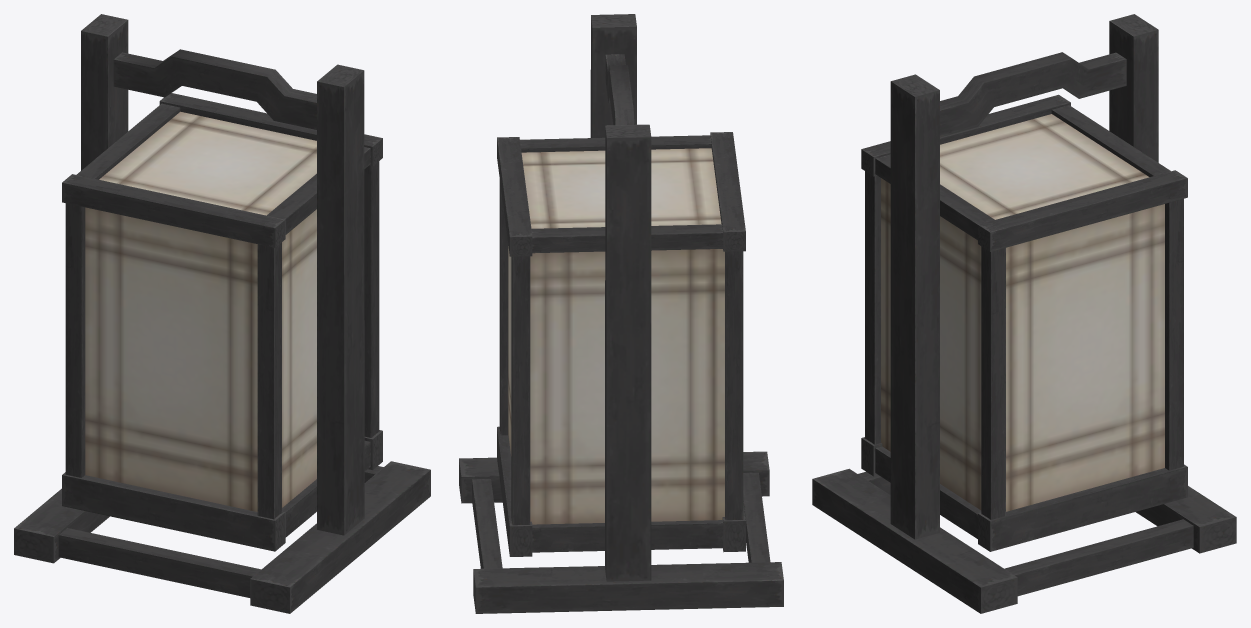
Rendered from Homeworld_Interior_Dq_Lamp_Lamp_01_Vo.fbx.
3 renders of one model, left to right at view 1: azimuth 30°, elevation 25°; view 2: azimuth 150°, elevation 25°; view 3: azimuth 270°, elevation 25°, orthographic.
Visible parts, largest first — view 1: Indoor_Dq_Prop_Comp_Lamp_04_Vo; view 2: Indoor_Dq_Prop_Comp_Lamp_04_Vo; view 3: Indoor_Dq_Prop_Comp_Lamp_04_Vo.
Boxes of the visible parts, x1,y1,x2,y2 form: Indoor_Dq_Prop_Comp_Lamp_04_Vo: [14, 14, 430, 613]; Indoor_Dq_Prop_Comp_Lamp_04_Vo: [459, 14, 783, 613]; Indoor_Dq_Prop_Comp_Lamp_04_Vo: [812, 14, 1236, 613].
Size of the model in its own units: 0.4072 by 0.4957 by 0.4065.
